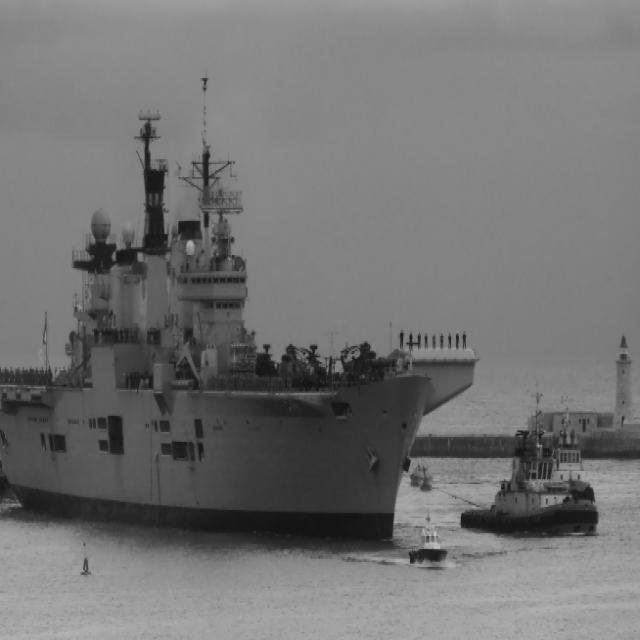Portanaves: (1, 61, 481, 550)
